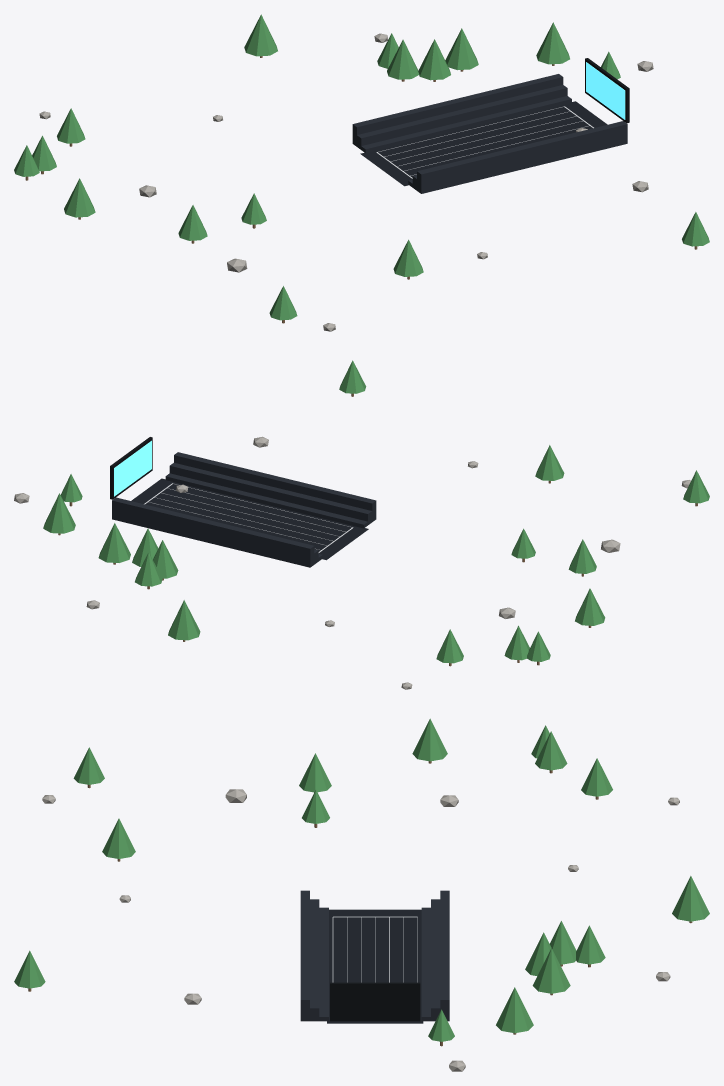
The model's file is carte-arene.glb.
The picture shows the model from 3 angles, top to bottom: view 1: azimuth 30°, elevation 25°; view 2: azimuth 150°, elevation 25°; view 3: azimuth 270°, elevation 25°; orthographic projection. The views are drawn at different scales.
Parts seen in each view (by area): view 1: arene, sapin22, sapin11, sapin21, sapin6, sapin20, sapin17, sapin9, sapin1, sapin19, sapin23, sapin4 (+1 smaller); view 2: arene, sapin22, sapin11, sapin21, sapin17, sapin9, sapin1, sapin20, sapin25, sapin19, sapin23, sapin13 (+1 smaller); view 3: arene, sapin11, sapin21, sapin22, sapin17, sapin9, sapin1, sapin13, sapin20, sapin19, sapin25, sapin23 (+2 smaller).
Part boxes in pixels (x1,y1,x2,y2): arene: (352, 58, 629, 193); sapin22: (536, 22, 569, 64); sapin11: (244, 14, 277, 56); sapin21: (445, 28, 478, 70); sapin6: (418, 39, 450, 80); sapin20: (387, 39, 419, 79); sapin17: (64, 178, 95, 217); sapin9: (393, 239, 423, 276); sapin1: (178, 205, 207, 240); sapin19: (57, 108, 85, 143); sapin23: (682, 212, 709, 246); sapin4: (269, 286, 297, 320); arene: (110, 437, 376, 567); sapin22: (43, 493, 75, 533); sapin11: (168, 600, 200, 640); sapin21: (98, 523, 130, 562); sapin17: (575, 588, 605, 625); sapin9: (535, 445, 564, 480); sapin1: (568, 539, 596, 573); sapin20: (153, 540, 178, 578); sapin25: (135, 552, 162, 586); sapin19: (436, 629, 463, 663); sapin23: (339, 360, 366, 393); sapin13: (504, 625, 529, 660); arene: (300, 890, 449, 1023); sapin11: (672, 876, 709, 921); sapin21: (532, 948, 570, 993); sapin22: (496, 987, 533, 1033); sapin17: (412, 718, 447, 761); sapin9: (102, 818, 135, 858); sapin1: (299, 753, 331, 792); sapin13: (535, 731, 567, 770); sapin20: (550, 921, 576, 964); sapin19: (581, 758, 612, 796); sapin25: (576, 925, 605, 964); sapin23: (14, 950, 45, 988).
Size of what is drawn, in the model's own units: 128 by 9.63 by 119.
